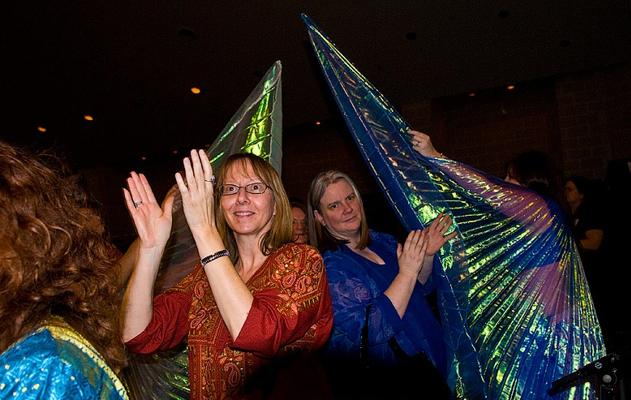person: (120, 147, 333, 400)
